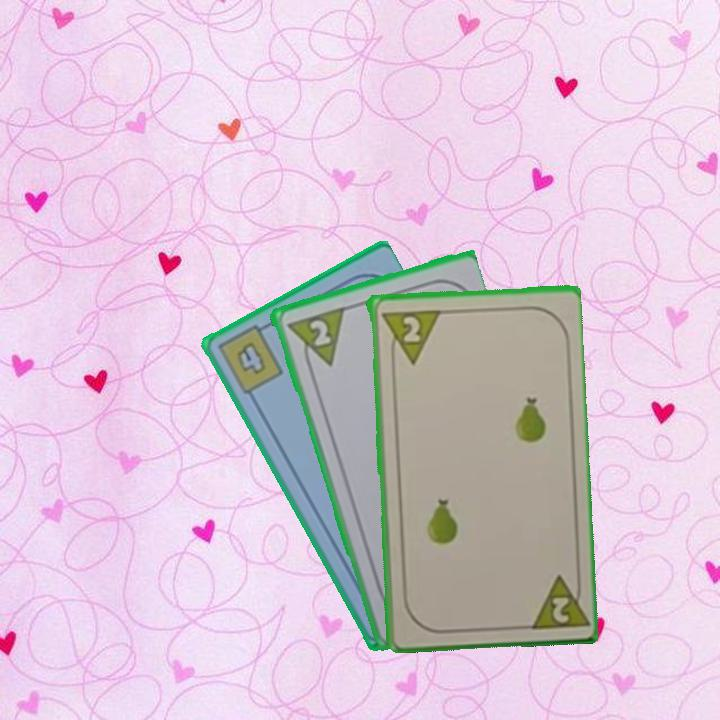2p: (282, 303, 346, 375), (523, 569, 588, 632), (397, 312, 422, 345)
4b: (214, 319, 286, 397)
